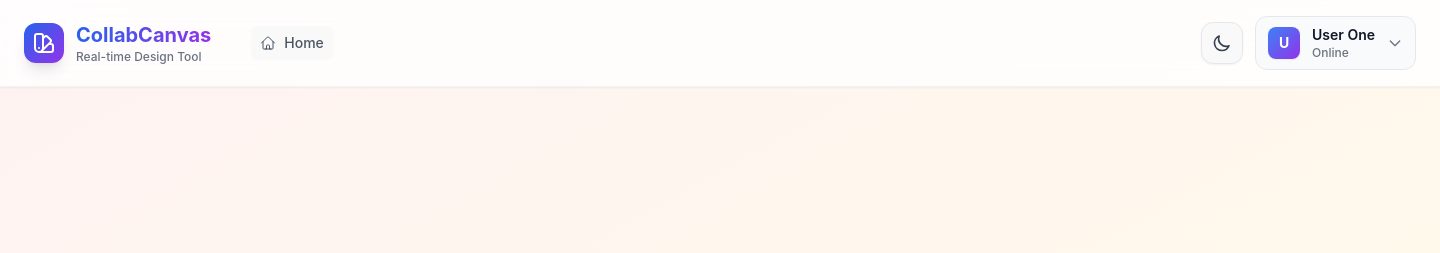
Test case: Navbar › User Menu › should open user menu dropdown when clicked
The width and height of the screenshot is (1440, 253).
Click the text "User One" at (1344, 35), box [1312,25,1375,45]
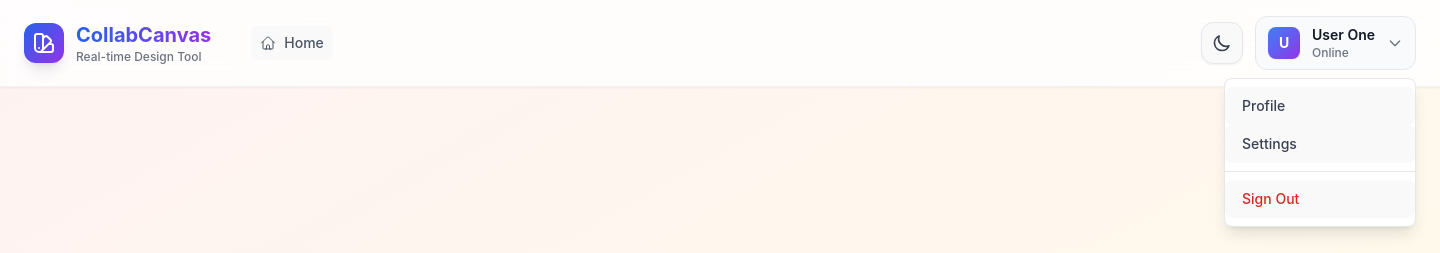
Check: the button "Profile" is shown, box [1225,87,1415,125]
Check: the button "Settings" is shown, box [1225,125,1415,163]
Check: the button "Sign Out" is shown, box [1225,180,1415,218]
